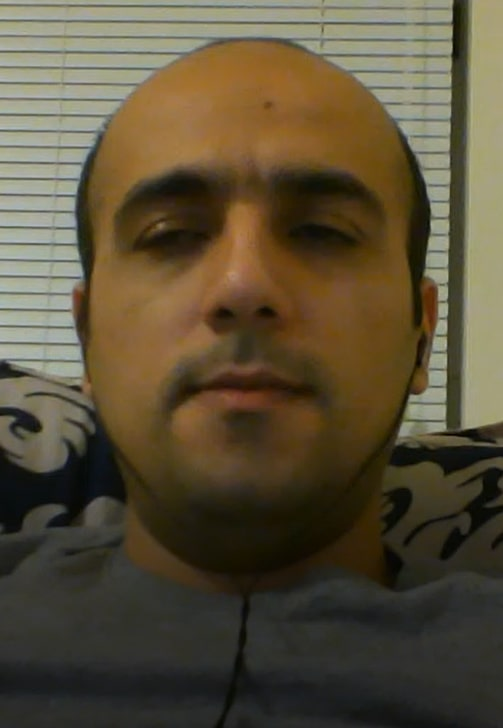Half Asleep: (119, 159, 380, 272)
